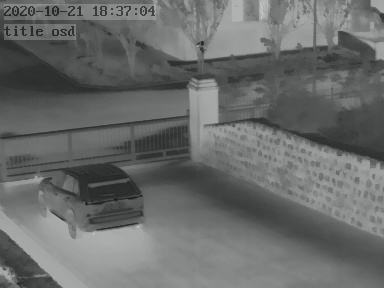vehicle: (51, 163, 143, 237)
